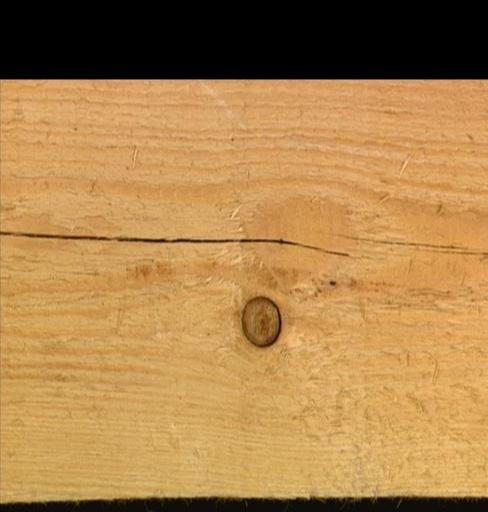dry_knot: (239, 294, 282, 348)
split: (0, 229, 348, 255), (326, 233, 486, 258)
